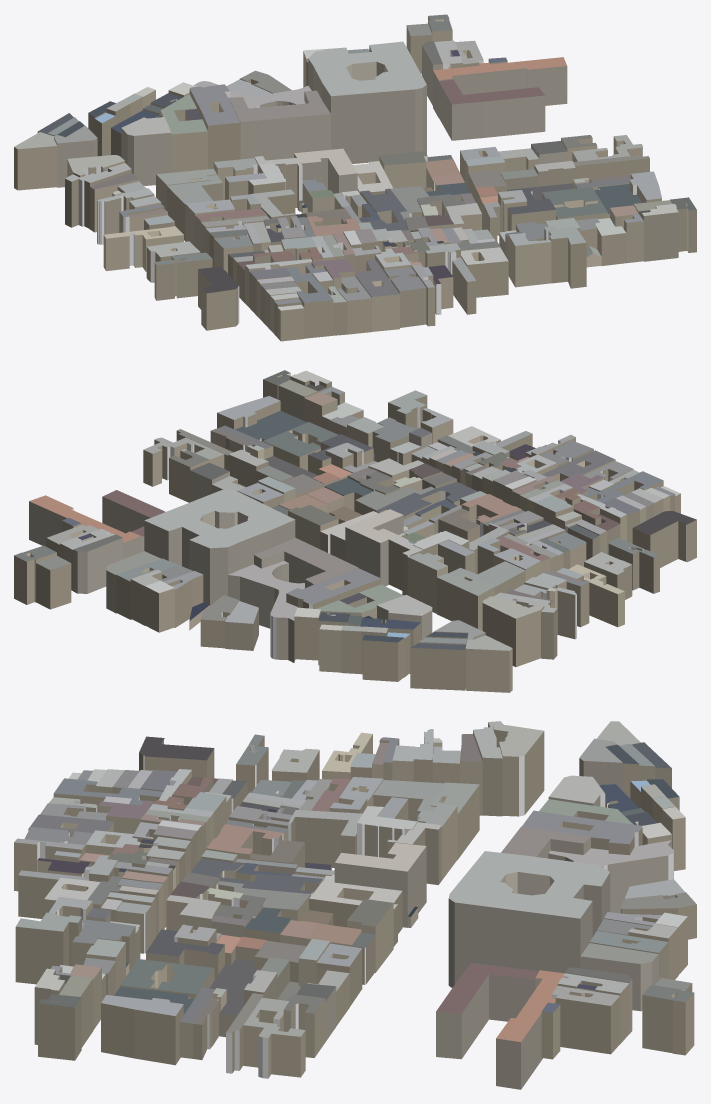
The picture shows the model from 3 angles, top to bottom: view 1: azimuth 30°, elevation 25°; view 2: azimuth 150°, elevation 25°; view 3: azimuth 270°, elevation 25°; orthographic projection. The views are drawn at different scales.
Visible parts, largest first — view 1: tuile; view 2: tuile; view 3: tuile.
Boxes of the visible parts, x1,y1,x2,y2 form: tuile: (14, 14, 696, 341); tuile: (14, 370, 696, 692); tuile: (14, 721, 696, 1089).
Size of the model in its own units: 298 by 40.11 by 269.
